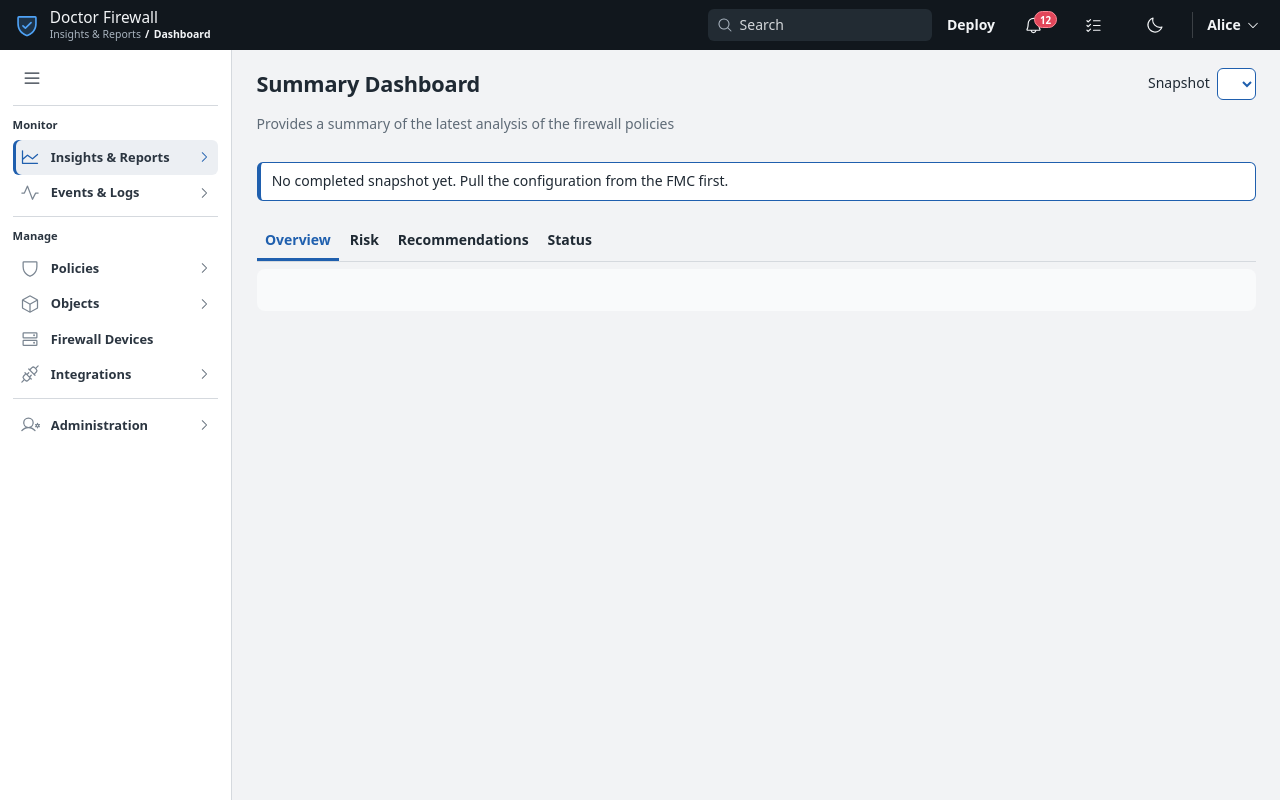
App › shows high and medium findings on the bell and searches objects from the top bar
Check: the button named "12 high and medium severity findings" reads "12", box [1016,8,1050,42]
Step 1. Type "H_GOLD" into the search field named "Search objects" → (831, 25), box [740,9,922,41]
Then press Enter
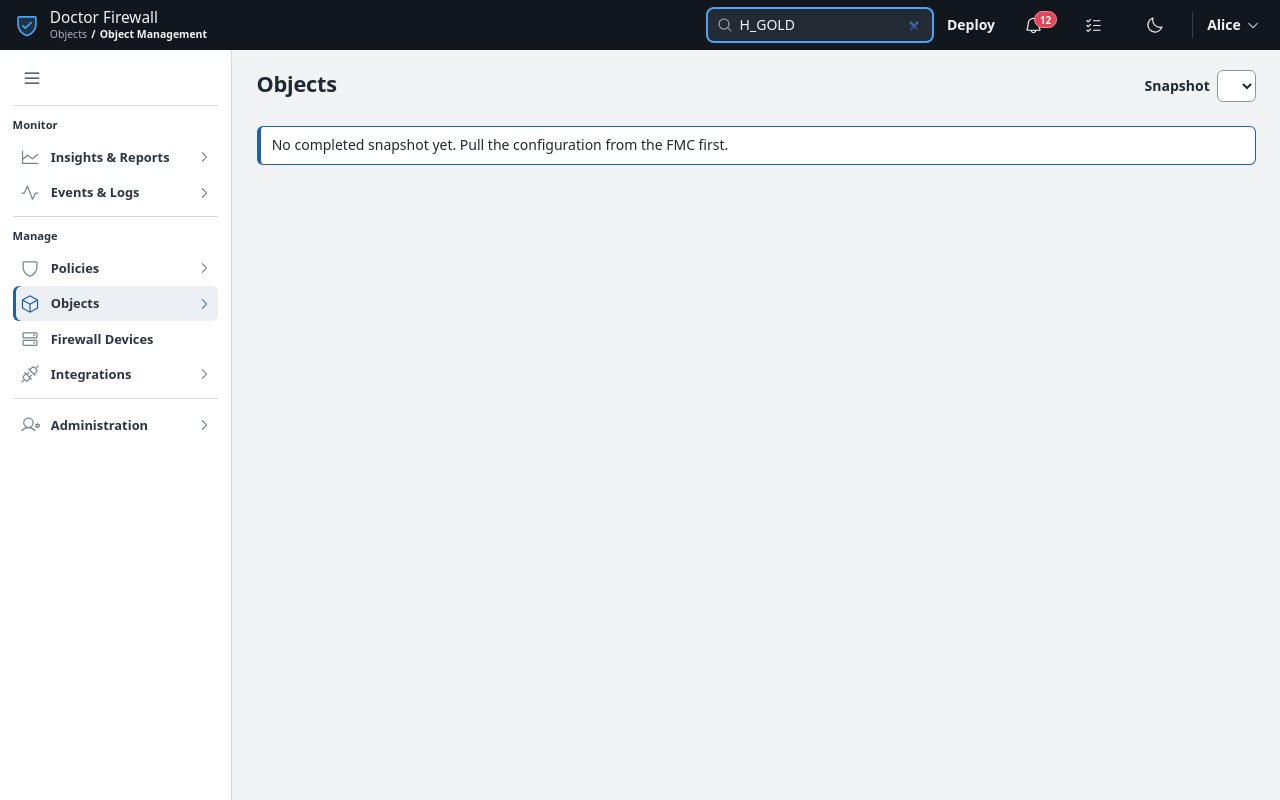
Check: the text "Object Management" is shown, box [87,28,207,40]
